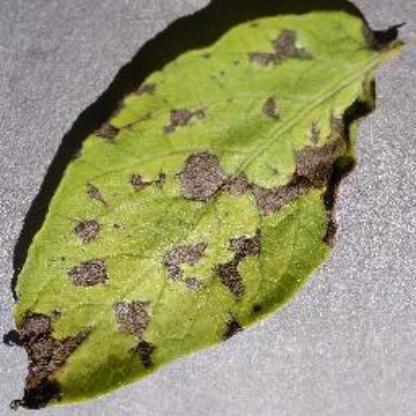Early-Blight: (15, 9, 407, 409)
